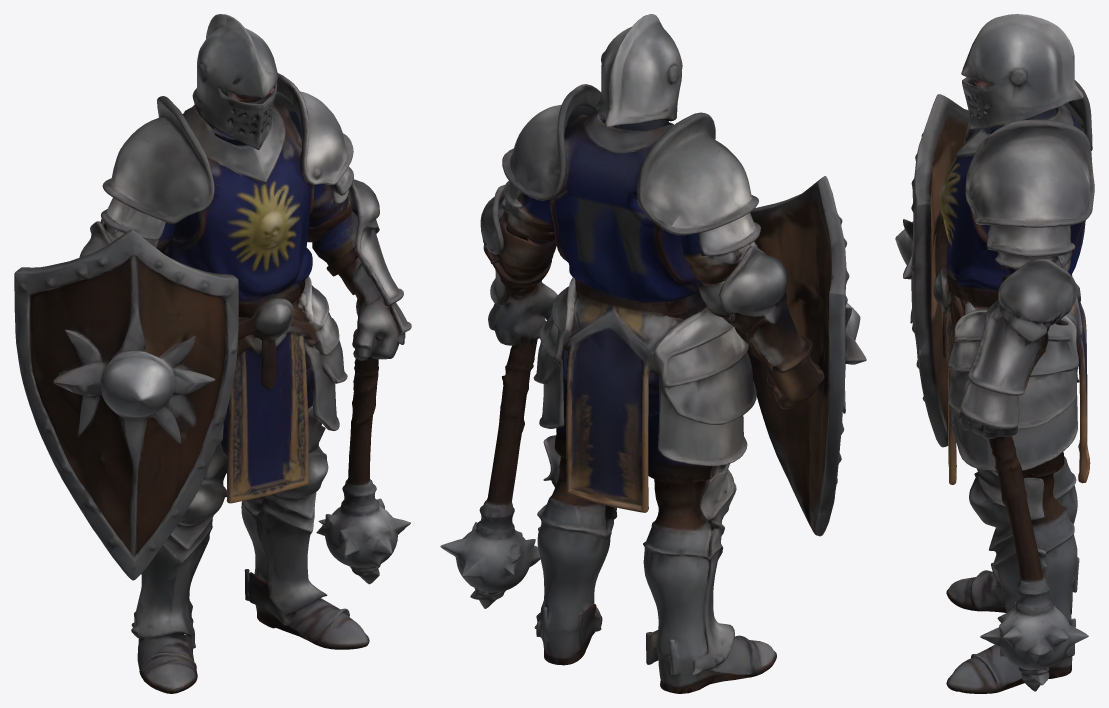
File: detail_5.glb
The picture shows the model from 3 angles, left to right: view 1: azimuth 30°, elevation 25°; view 2: azimuth 150°, elevation 25°; view 3: azimuth 270°, elevation 25°; orthographic projection. The views are drawn at different scales.
Size of the model in its own units: 0.6404 by 0.9935 by 0.2862.
1 material, 1 textured.
